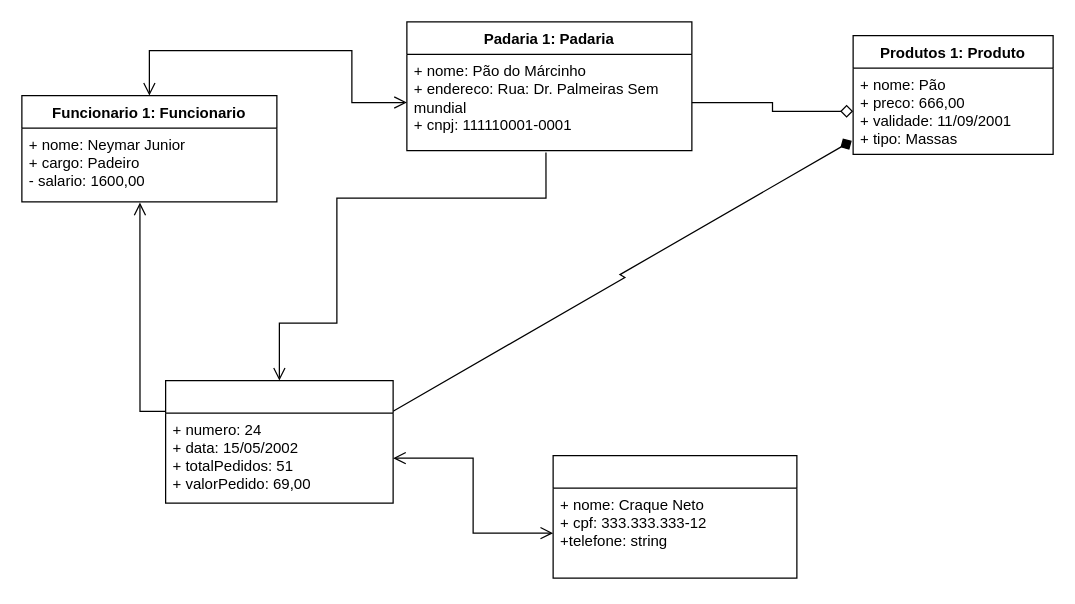
The diagram is 1075 pixels wide and 604 high, and some of its shapes have lost their labels. The shapes that lost their labels are listed below. From the top down, each one's box as (x1, y1, x2, y2) in pixels, then its label:
(164, 379, 393, 503): Pedido 24: Pedido
(552, 454, 797, 578): Cliente 1: Cliente
